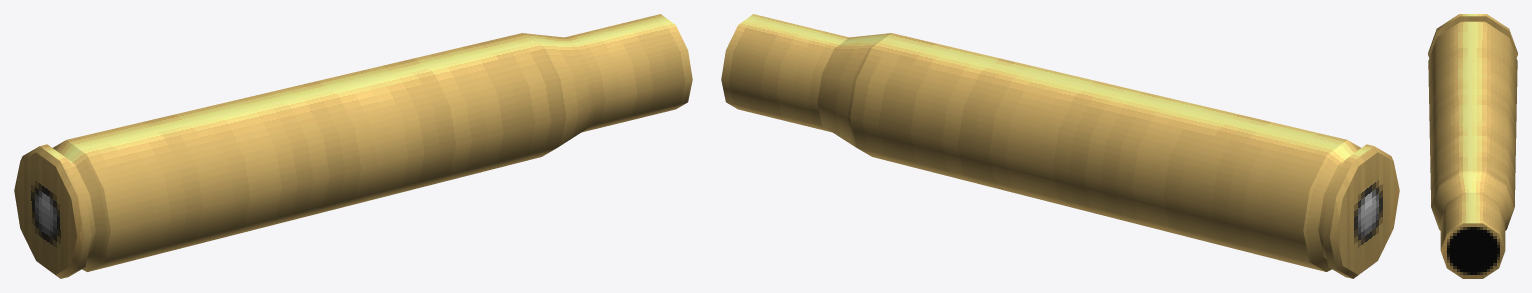
File: ammomaker_CasingBottleneckM.fbx
3 views of the same model, side by side, from view 1: azimuth 30°, elevation 25°; view 2: azimuth 150°, elevation 25°; view 3: azimuth 270°, elevation 25° (orthographic). The views are drawn at different scales.
Visible parts, largest first — view 1: ammomaker_CasingBottleneckM; view 2: ammomaker_CasingBottleneckM; view 3: ammomaker_CasingBottleneckM.
Boxes of the visible parts, box(x1,y1,x2,y2) form: ammomaker_CasingBottleneckM: box(14, 14, 692, 278); ammomaker_CasingBottleneckM: box(721, 14, 1399, 278); ammomaker_CasingBottleneckM: box(1428, 14, 1517, 278).
Size of the model in its own units: 6.34 by 1.14 by 1.2.
